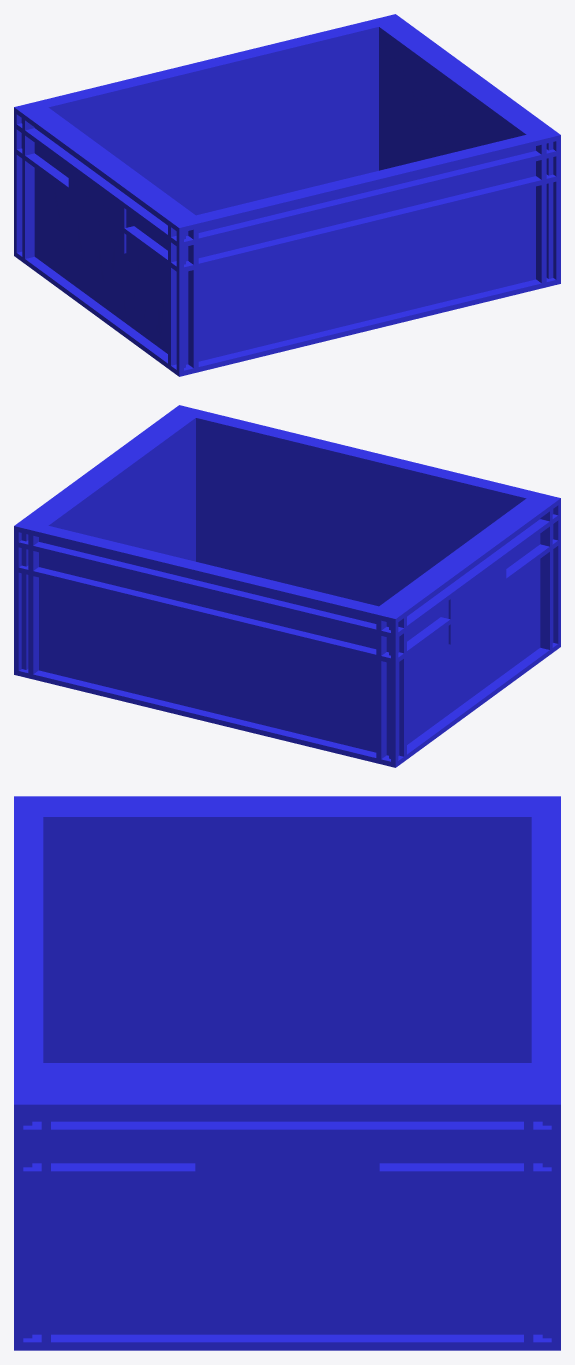
File: emaLIB_KLT_346-265-109-5.dae
3 views of the same model, one above another, from view 1: azimuth 30°, elevation 25°; view 2: azimuth 150°, elevation 25°; view 3: azimuth 270°, elevation 25° (orthographic). The views are drawn at different scales.
Parts seen in each view (by area): view 1: KLT_346-265-109,5 (×3); view 2: KLT_346-265-109,5 (×3); view 3: KLT_346-265-109,5 (×3).
Part boxes in pixels (bbox=[...]): KLT_346-265-109,5 (×3): bbox=[14, 14, 560, 376]; KLT_346-265-109,5 (×3): bbox=[14, 405, 560, 767]; KLT_346-265-109,5 (×3): bbox=[14, 796, 560, 1350].
Bounding box in the file's own units: 15.59 × 11.69 × 5.81.
